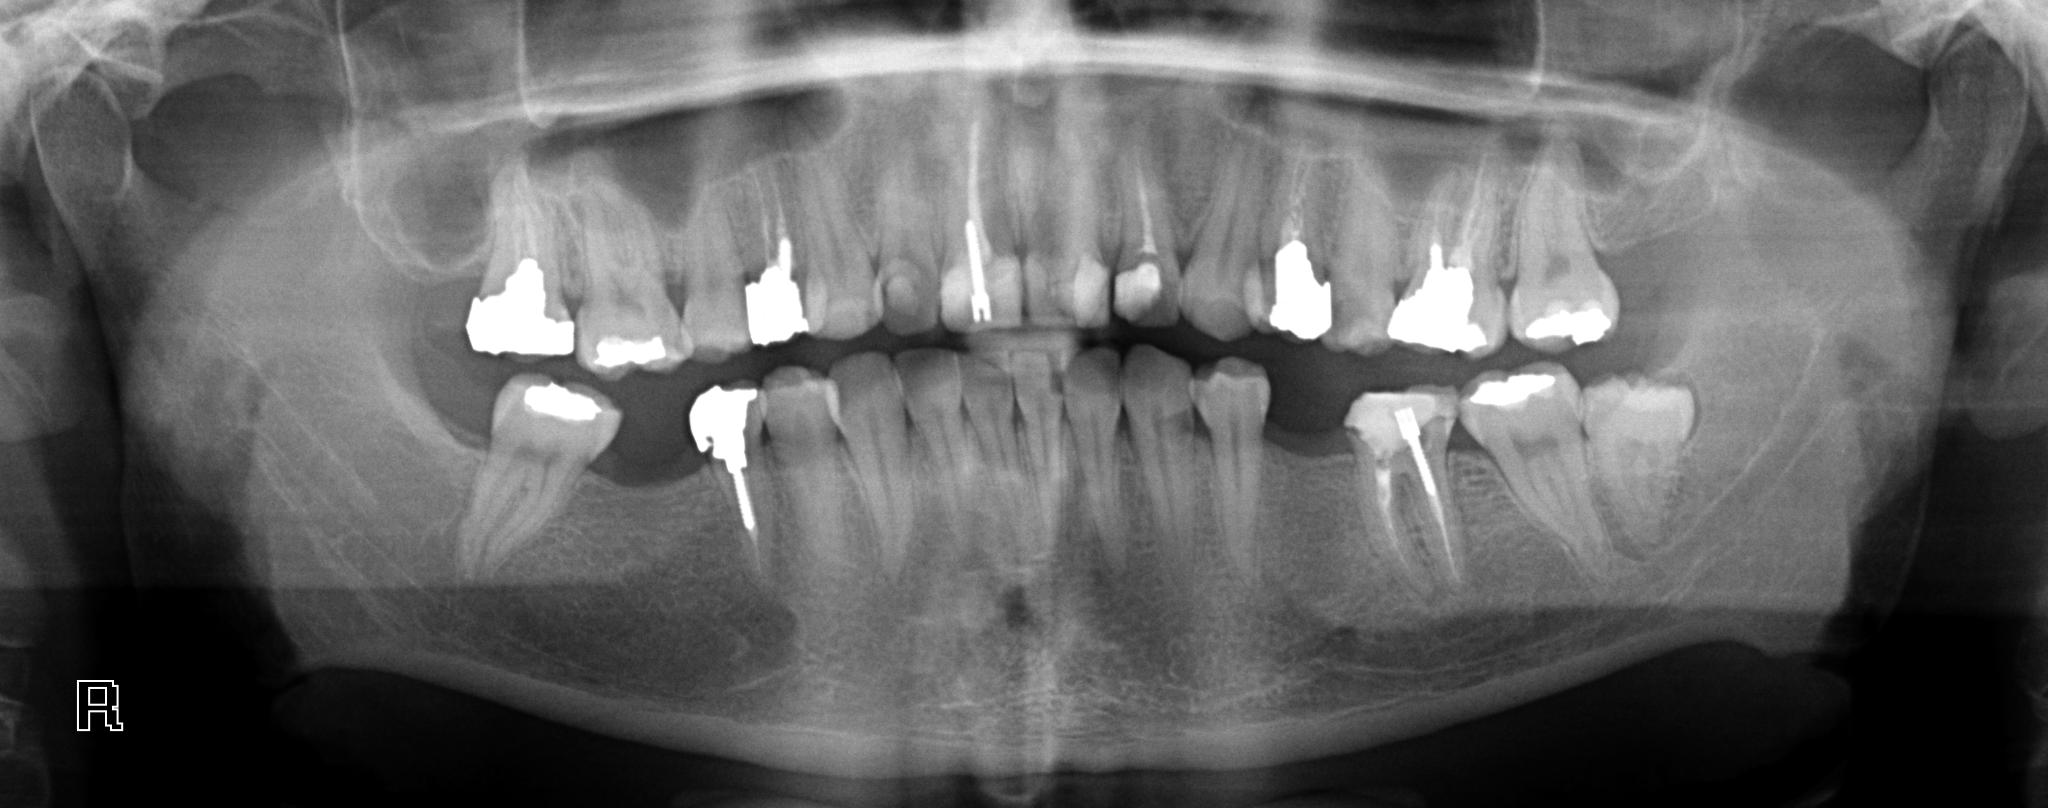Fillings: (453, 375, 622, 577), (1497, 144, 1630, 354), (571, 175, 688, 377), (460, 164, 576, 360)
Implant: (1335, 380, 1464, 603), (1383, 145, 1514, 364), (679, 376, 785, 586), (933, 137, 1025, 339), (741, 157, 827, 352), (1108, 129, 1182, 333)
